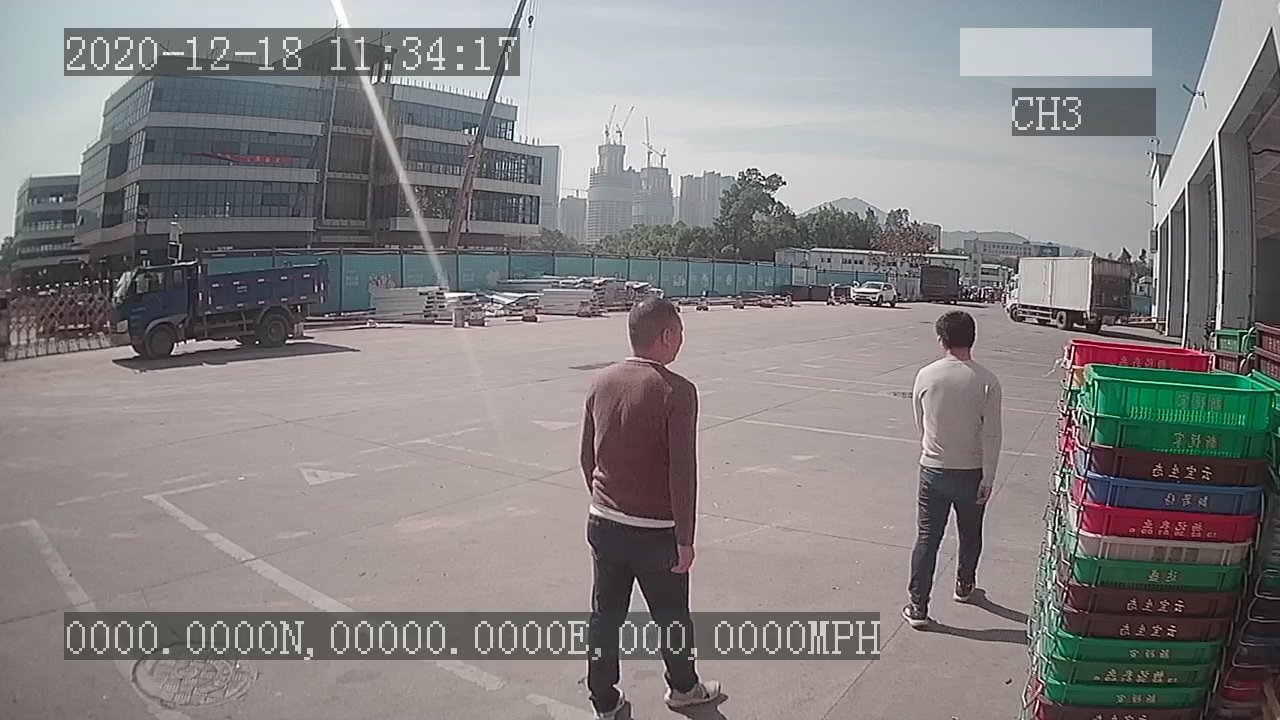person: (894, 310, 1010, 625)
